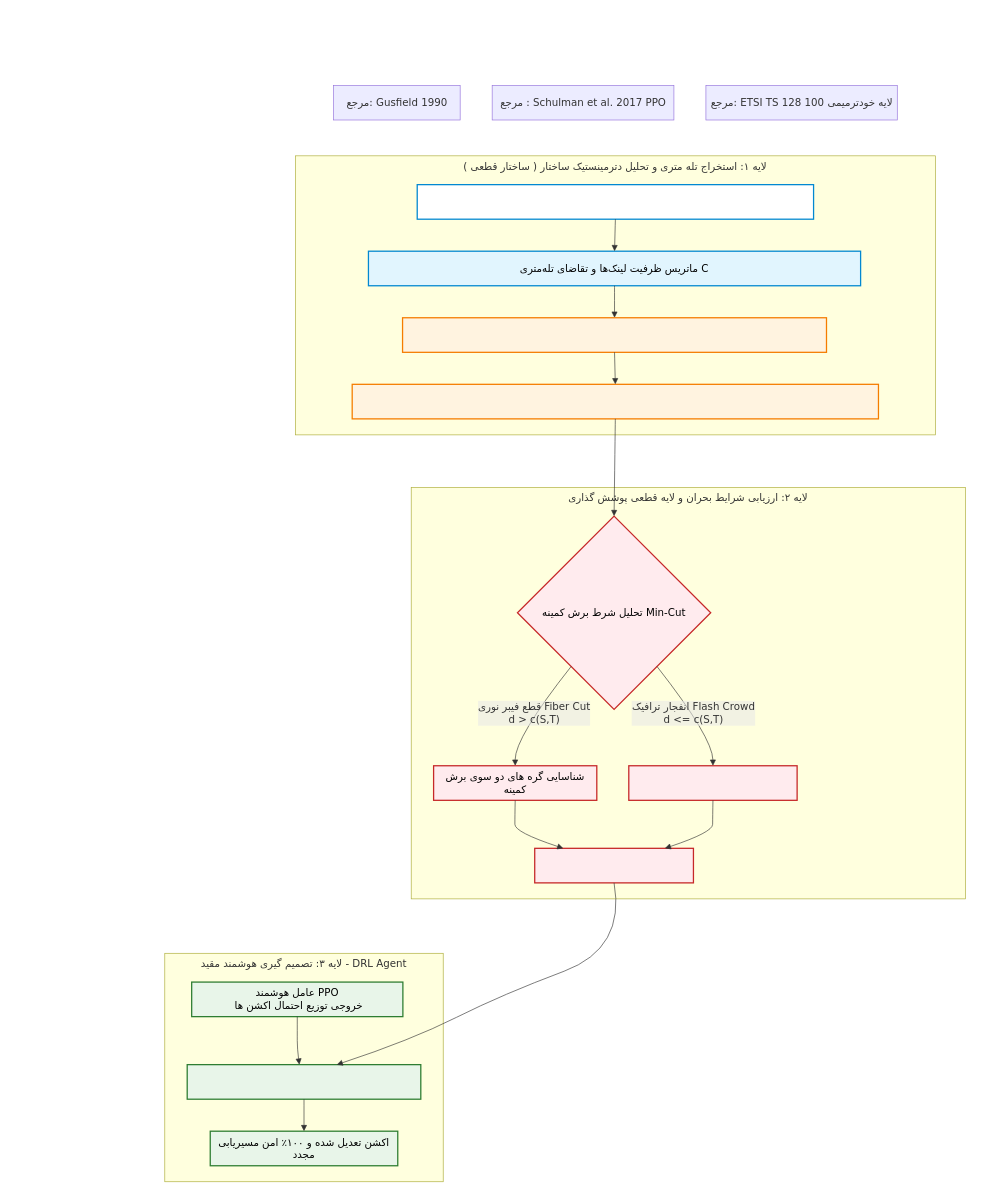
This 995x1193 diagram has some shape labels left out. Each missing label, with the centre of its shape:
"اعمال فیلتر ضرب عنصری Element-wise Product" goes at (x=303, y=1082).
"الگوریتم Gusfield / قضیه Picard" goes at (x=614, y=335).
"تولید ماتریس باینری ماسک کنش M" goes at (x=614, y=865).
"توپولوژی شبکه همراه اول G=V,E" goes at (x=615, y=202).
"ساختار درخت گوموری-هو Gomory-Hu Tree" goes at (x=615, y=401).
"محاسبه ظرفیت مازاد لینک‌ های بحرانی" goes at (x=712, y=783).
